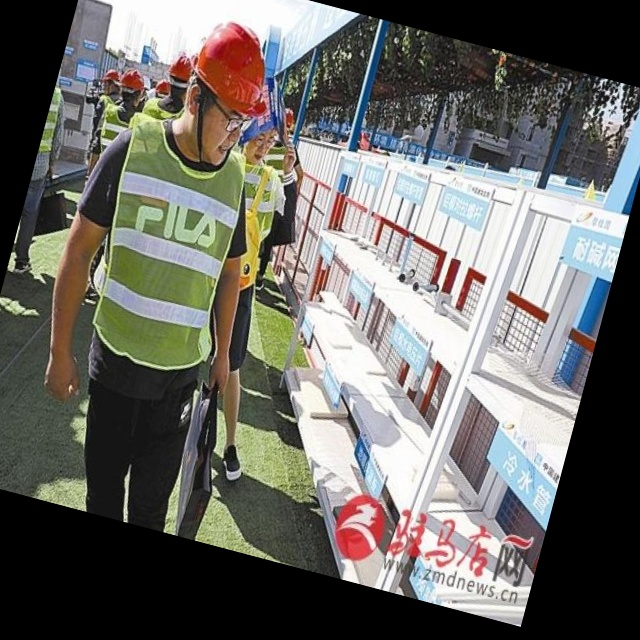Con_Casco: (170, 15, 286, 163)
Con_Chaleco: (71, 111, 263, 379)
